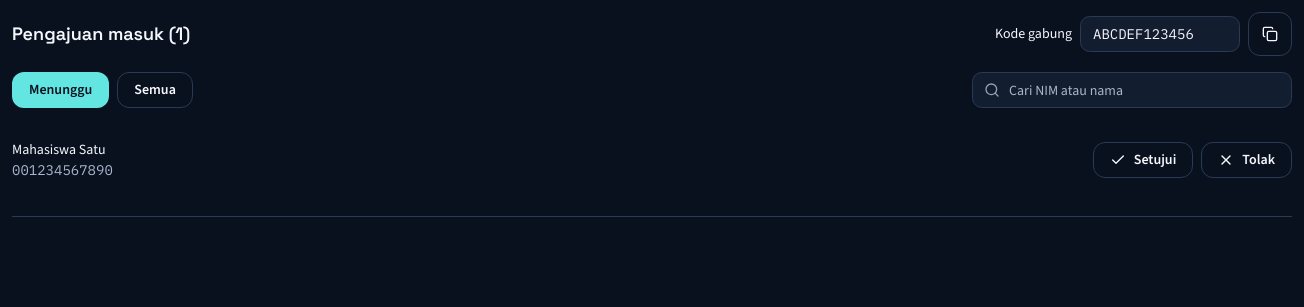
Scenario: kotak pengajuan dosen › memisahkan riwayat dari daftar yang perlu diputuskan
Expected: the text "Mahasiswa Dua" is not shown
Click the button "Semua" at (155,90), box [117, 72, 193, 108]
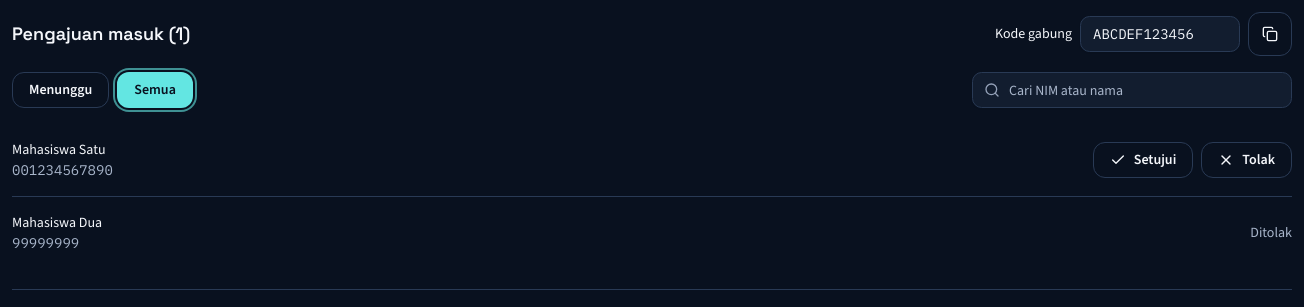
Result: the text "Mahasiswa Dua" is shown at [12, 213, 102, 233]
Type "001234" into the field named "Cari pengajuan" at (1132,90), box [972, 72, 1292, 108]
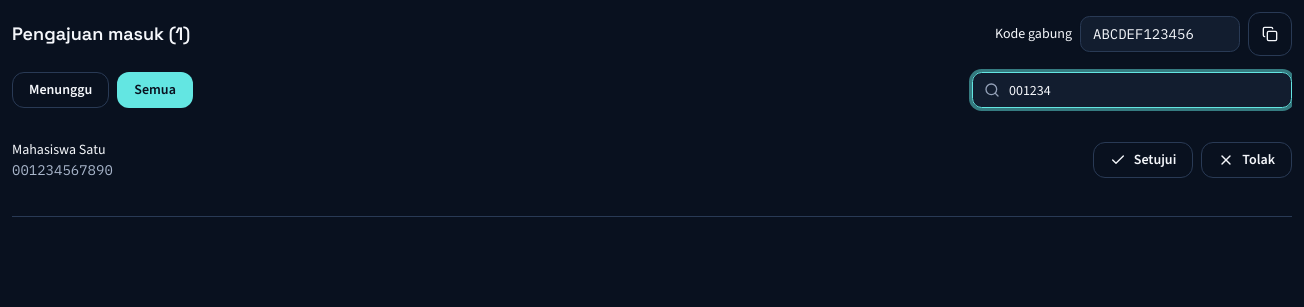
Result: the text "Mahasiswa Dua" is gone
